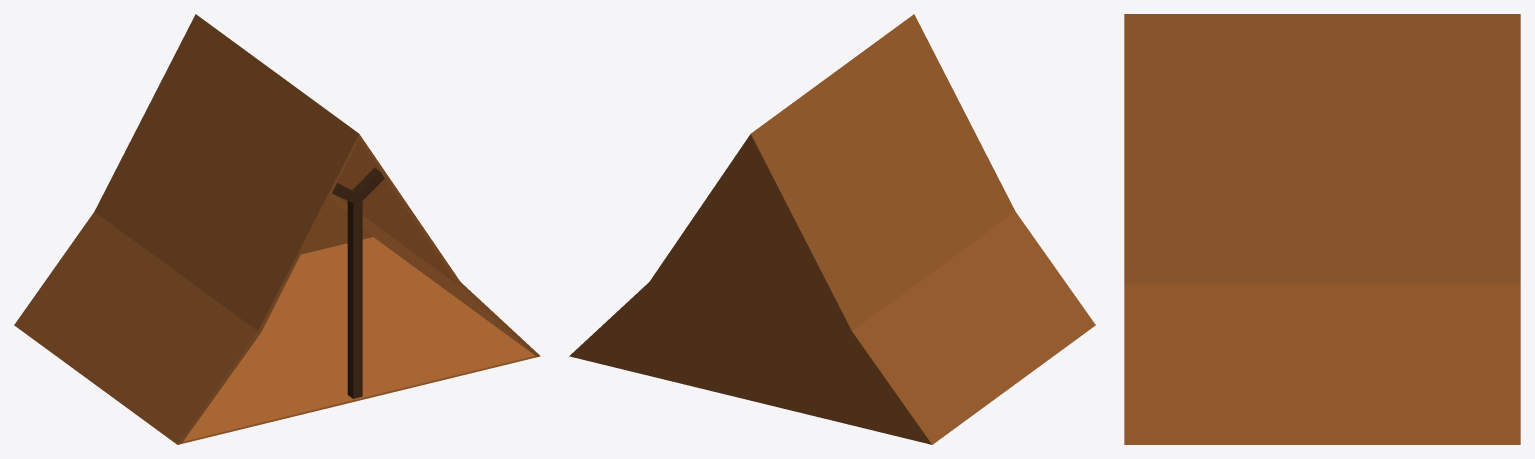
Rendered from Tent_1_Orange.fbx.
3 views of the same model, side by side, from view 1: azimuth 30°, elevation 25°; view 2: azimuth 150°, elevation 25°; view 3: azimuth 270°, elevation 25° (orthographic). The views are drawn at different scales.
Visible parts, largest first — view 1: Tent_1_Orange_Part_3, Tent_1_Orange_Part_1, Tent_1_Orange_Part_2, Tent_1_Orange_Part_5, Tent_1_Orange_Part_7, Tent_1_Orange_Part_4, Tent_1_Orange_Part_6; view 2: Tent_1_Orange_Part_3, Tent_1_Orange_Part_6, Tent_1_Orange_Part_2, Tent_1_Orange_Part_5; view 3: Tent_1_Orange_Part_5, Tent_1_Orange_Part_4.
Boxes of the visible parts, left/top/right/bottom form: Tent_1_Orange_Part_3: left=94, top=14, right=359, bottom=332; Tent_1_Orange_Part_1: left=181, top=237, right=536, bottom=443; Tent_1_Orange_Part_2: left=14, top=212, right=260, bottom=444; Tent_1_Orange_Part_5: left=335, top=134, right=460, bottom=284; Tent_1_Orange_Part_7: left=332, top=167, right=384, bottom=398; Tent_1_Orange_Part_4: left=330, top=194, right=540, bottom=357; Tent_1_Orange_Part_6: left=301, top=198, right=372, bottom=254; Tent_1_Orange_Part_3: left=750, top=14, right=1015, bottom=332; Tent_1_Orange_Part_6: left=573, top=140, right=928, bottom=443; Tent_1_Orange_Part_2: left=849, top=212, right=1095, bottom=444; Tent_1_Orange_Part_5: left=649, top=134, right=750, bottom=284; Tent_1_Orange_Part_5: left=1124, top=14, right=1520, bottom=283; Tent_1_Orange_Part_4: left=1124, top=283, right=1520, bottom=444.
Size of the model in its own units: 192 by 135 by 150.
